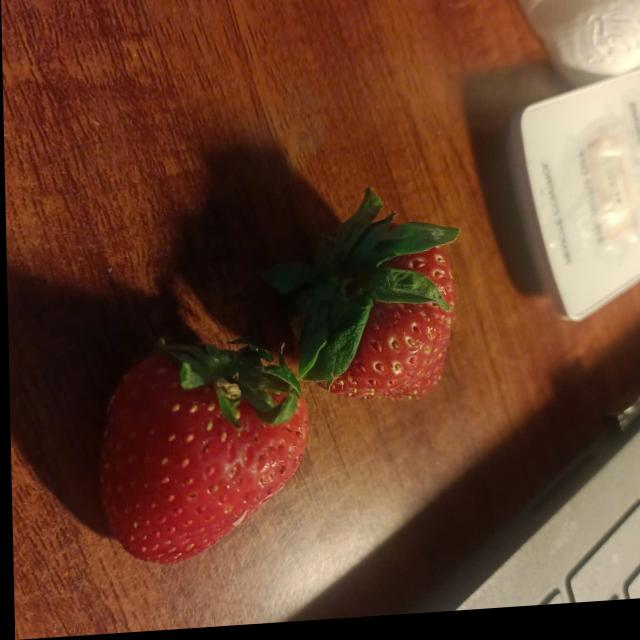DauTay: (65, 314, 320, 601), (257, 194, 467, 407)
